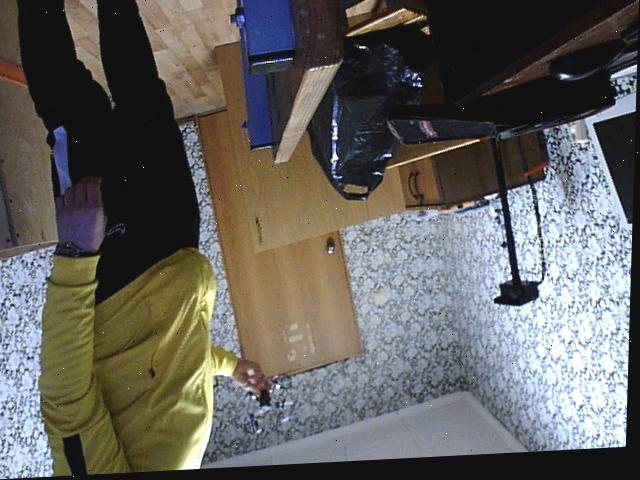drone: (233, 368, 303, 446)
